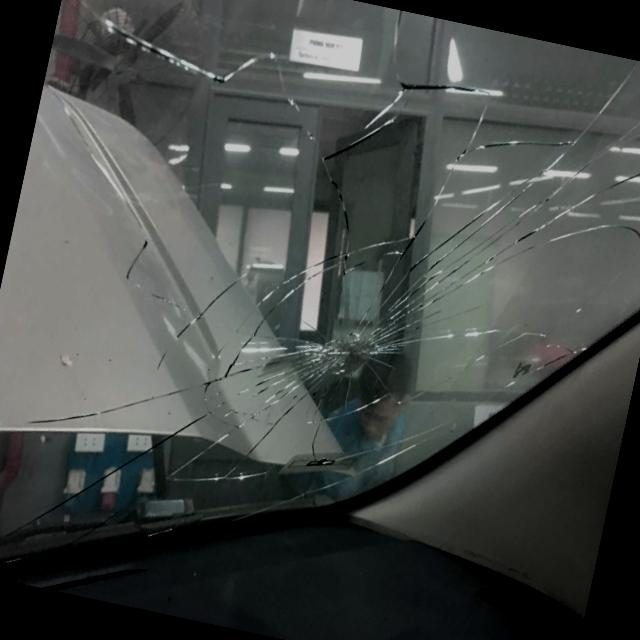Fissure: (0, 333, 241, 581), (224, 197, 444, 430), (182, 367, 446, 547), (414, 298, 597, 413)
